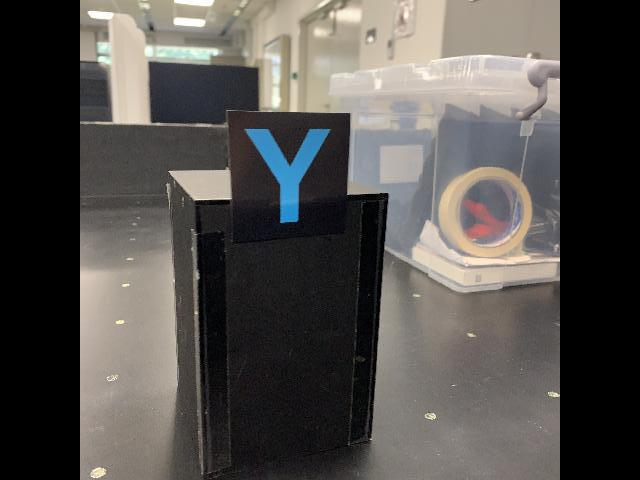y: (223, 107, 352, 247)
